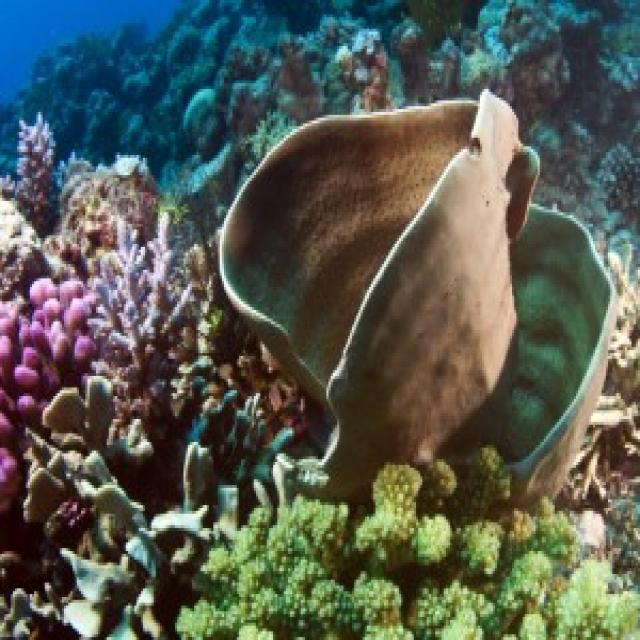Healthy: (219, 93, 615, 498), (182, 452, 639, 638), (24, 377, 167, 638), (99, 322, 302, 483), (1, 277, 97, 515), (91, 213, 199, 360), (583, 245, 639, 506), (59, 156, 159, 254), (16, 113, 54, 225)
